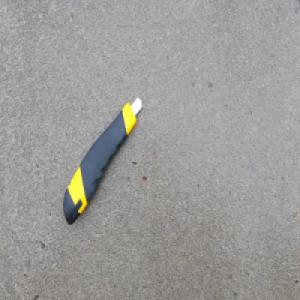Cutter: (62, 94, 143, 225)
